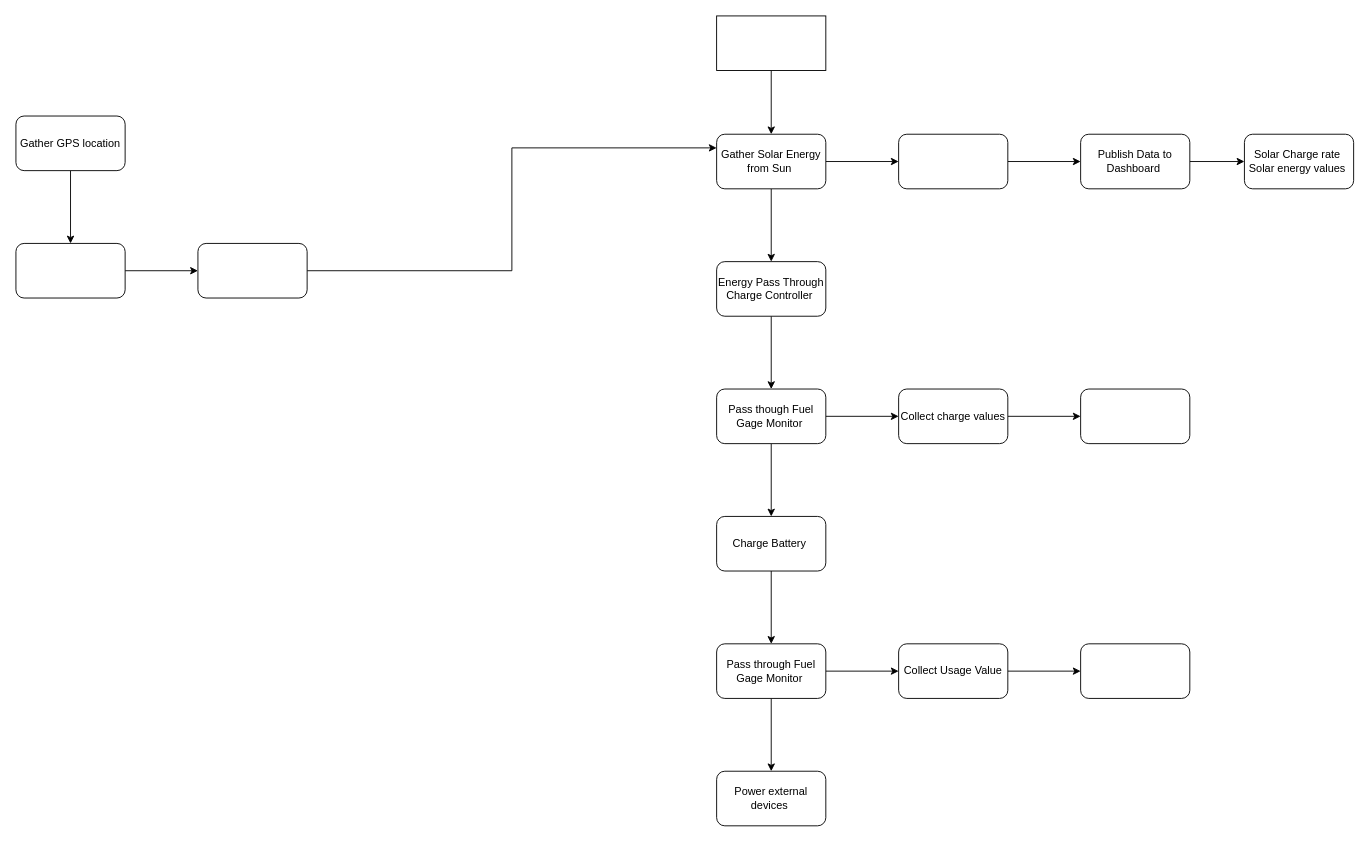
Some shapes in this 1370 by 842 pixel diagram are drawn without their labels. The centre of each missing label's shape, as x and y in pixels:
compare weather values and publish to dashboard: (x=252, y=270)
Gather Solar values from AS7341: (x=953, y=161)
General Flow Chart for Circut-Tree: (x=771, y=43)
Publish Charge rate and Charge percentage to dashboard: (x=1135, y=416)
Publish usage vales to dashboard: (x=1135, y=670)
Use GPS and openweather API to gather weather report: (x=70, y=270)
